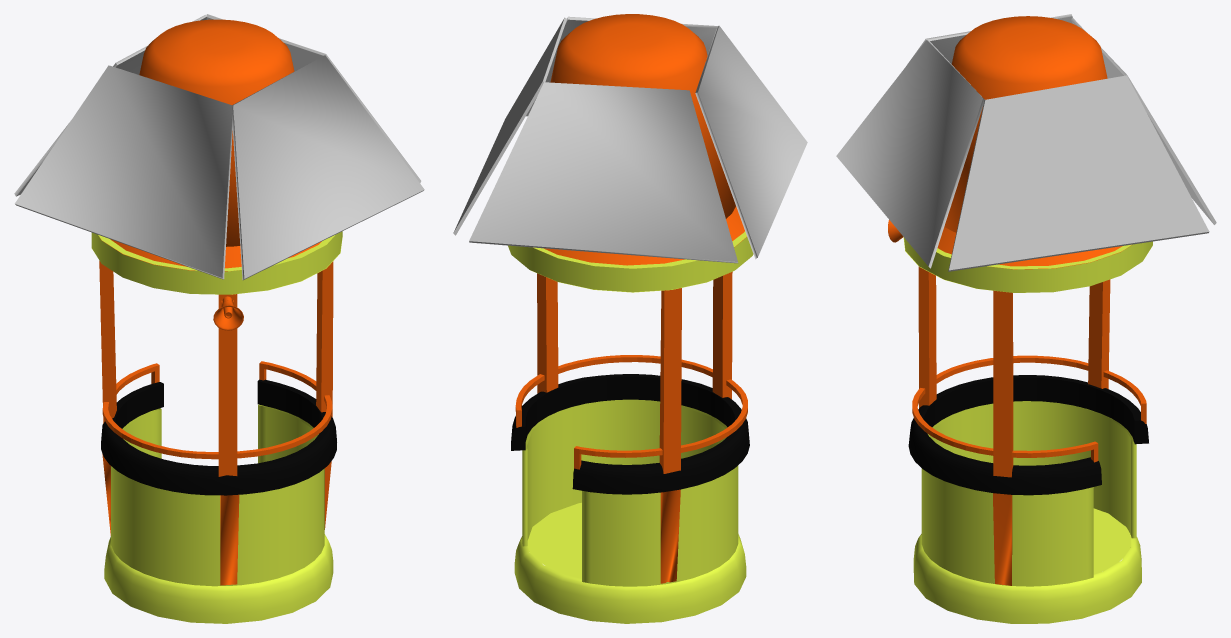
File: police booth.fbx
The picture shows the model from 3 angles, left to right: view 1: azimuth 30°, elevation 25°; view 2: azimuth 150°, elevation 25°; view 3: azimuth 270°, elevation 25°; orthographic projection.
Parts seen in each view (by area): view 1: Banner, Object037_Image_0, suport part, Top, step, suport, Frame, Angle, Object030_black_0, Spiker.001; view 2: Banner, Object037_Image_0, suport part, Top, suport, step, Frame, Angle, Floor_Standard, Object030_black_0; view 3: Banner, Object037_Image_0, suport part, Top, suport, step, Frame, Angle, Floor_Standard, Object030_black_0.
Part boxes in pixels (x1,y1,x2,y2): Banner: (14, 14, 424, 280); Object037_Image_0: (111, 404, 324, 586); suport part: (101, 379, 336, 495); Top: (139, 19, 294, 246); step: (104, 534, 333, 623); suport: (99, 238, 333, 476); Frame: (91, 231, 342, 294); Angle: (102, 361, 332, 459); Object030_black_0: (102, 454, 331, 585); Spiker.001: (213, 296, 243, 330); Banner: (453, 16, 807, 263); Object037_Image_0: (522, 399, 738, 586); suport part: (511, 374, 749, 494); Top: (550, 14, 735, 218); suport: (537, 206, 746, 473); step: (514, 534, 746, 623); Frame: (508, 231, 753, 292); Angle: (515, 355, 747, 469); Floor_Standard: (527, 502, 581, 578); Object030_black_0: (660, 489, 680, 583); Banner: (836, 14, 1216, 271); Object037_Image_0: (921, 401, 1136, 586); suport part: (908, 375, 1148, 495); Top: (944, 16, 1107, 232); suport: (918, 227, 1131, 477); step: (913, 513, 1141, 623); Frame: (903, 237, 1152, 292); Angle: (912, 355, 1146, 462); Floor_Standard: (1093, 508, 1130, 574); Object030_black_0: (993, 493, 1012, 585).
Bounding box in the file's own units: 245 × 380 × 244.
